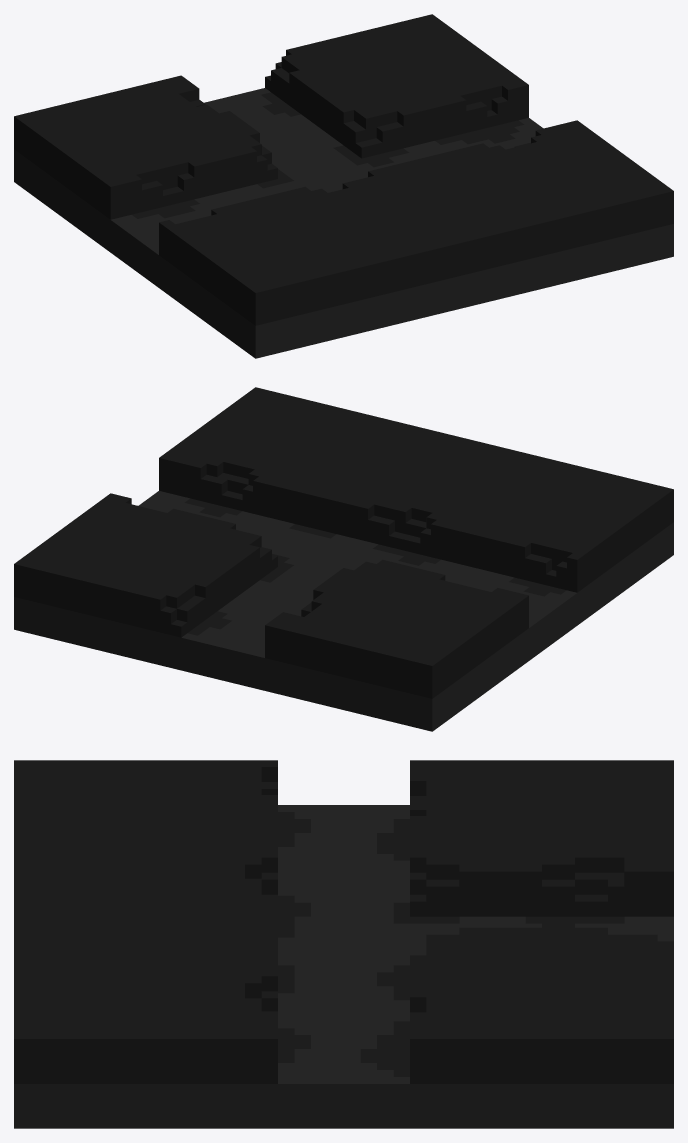
File: Splitting Path Vulcano Tile 1.obj
The picture shows the model from 3 angles, top to bottom: view 1: azimuth 30°, elevation 25°; view 2: azimuth 150°, elevation 25°; view 3: azimuth 270°, elevation 25°; orthographic projection. The views are drawn at different scales.
Bounding box in the file's own units: 8 × 1.2 × 8.
Materials: 1 (1 with a texture image).
